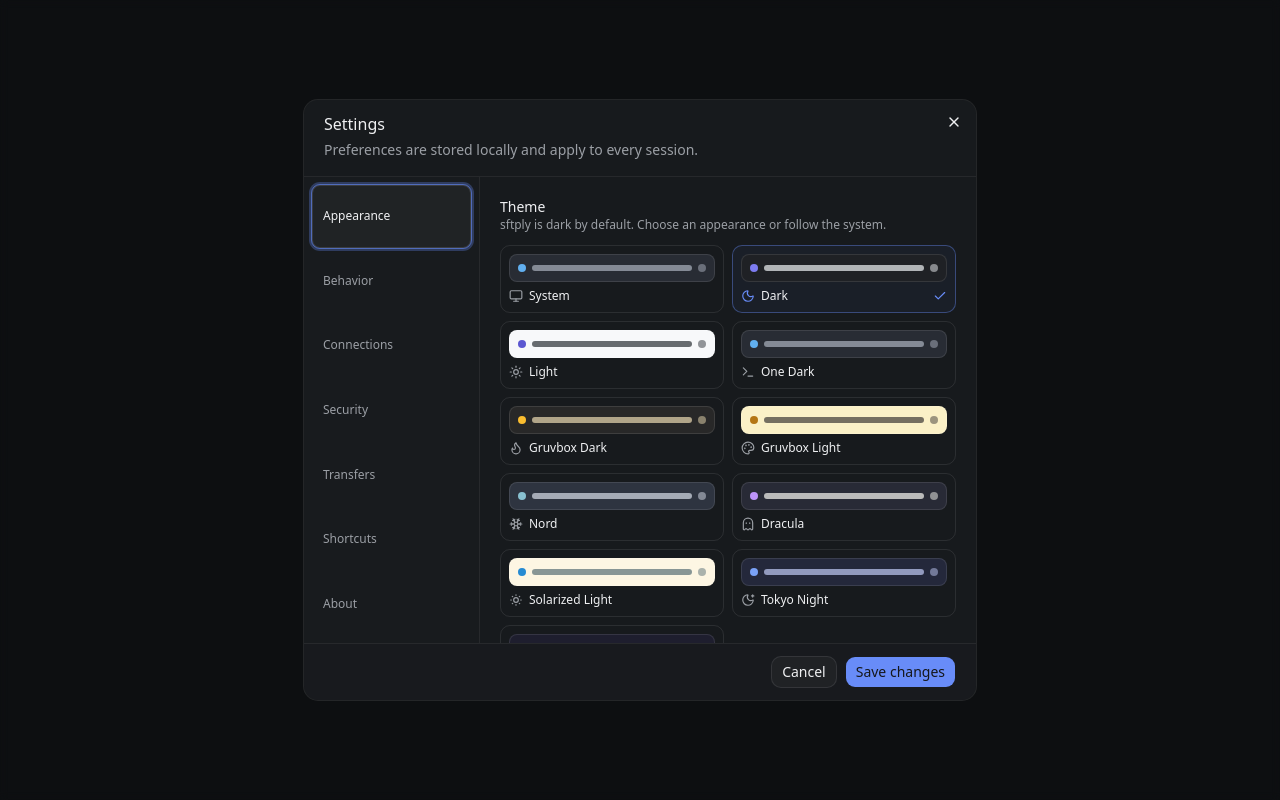
SettingsDialog › switches tabs without closing the dialog
Check: the dialog is shown, box [304,100,976,700]
Check: the field labelled "Simultaneous transfers" is not shown
Click the tab "Transfers" at x=392, y=475, box [312,443,471,506]
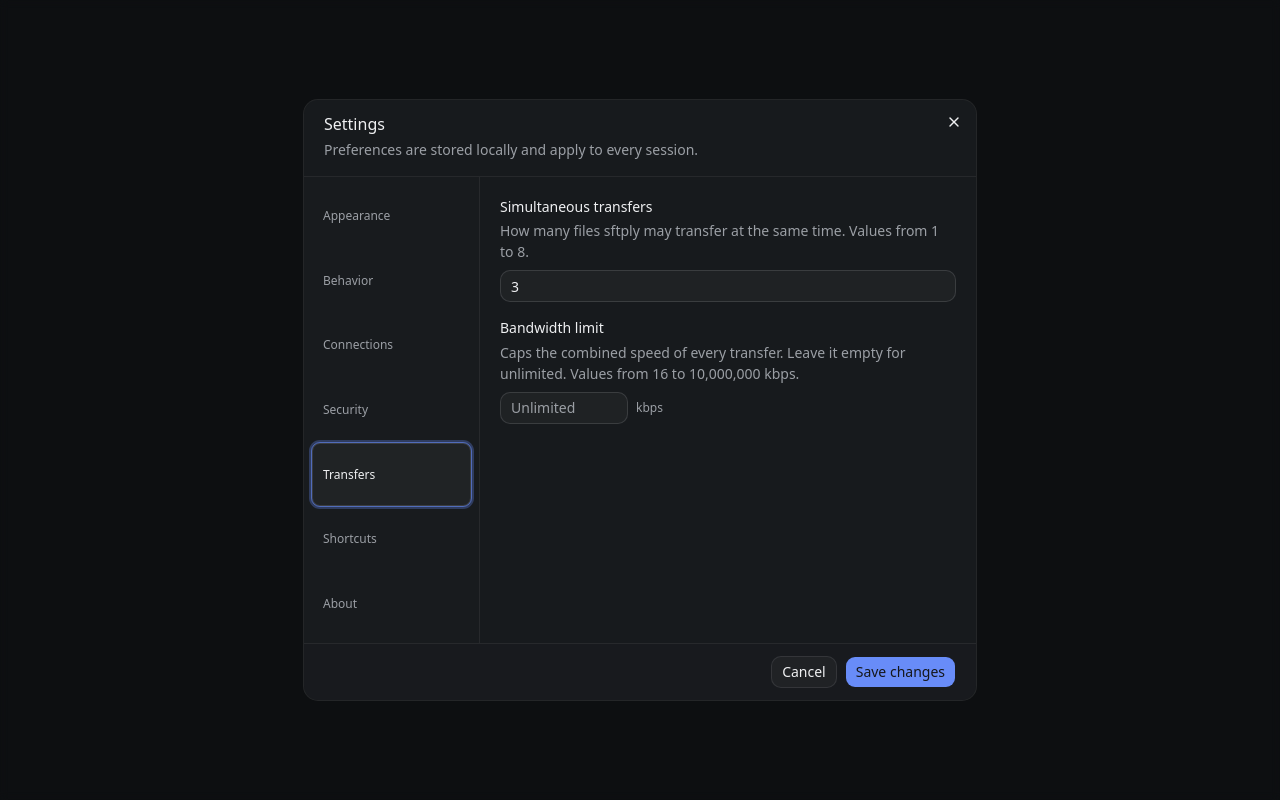
Check: the number field labelled "Simultaneous transfers" is shown, box [500,270,956,302]
